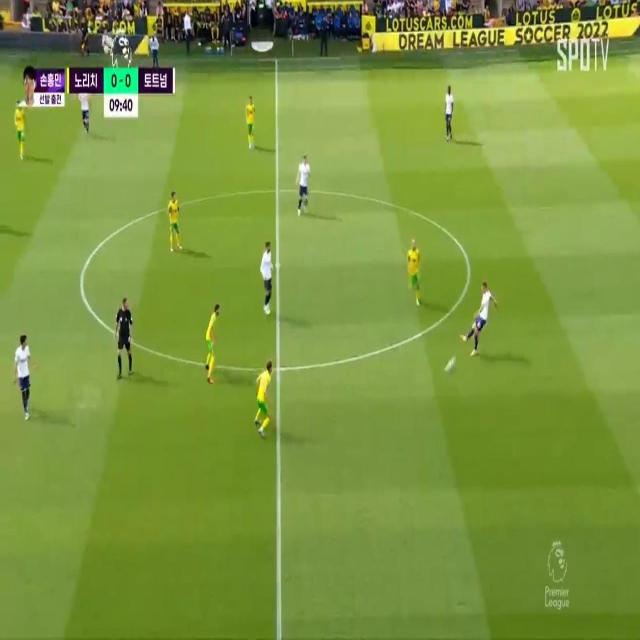ball: (445, 348, 457, 380)
player: (470, 280, 493, 361), (254, 358, 276, 431), (206, 294, 220, 385), (17, 336, 33, 410), (408, 236, 424, 305), (165, 191, 183, 252), (294, 146, 310, 212), (13, 98, 29, 157), (262, 239, 272, 309), (246, 95, 258, 152), (79, 84, 91, 136), (443, 83, 453, 143)
referee: (116, 295, 136, 374)
